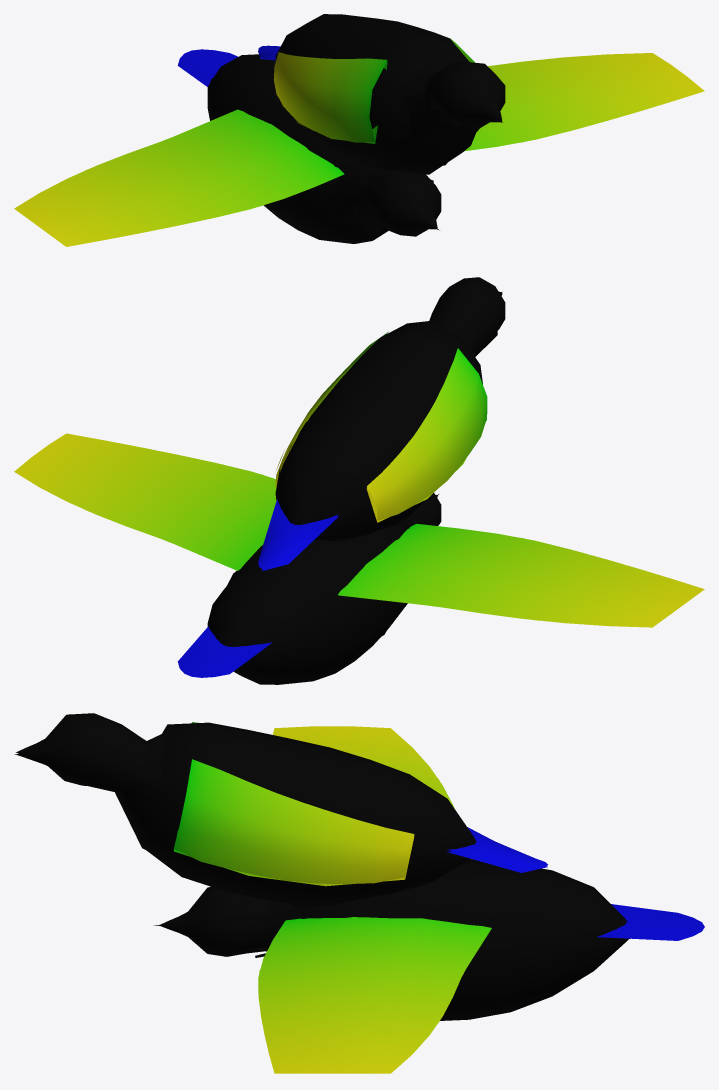
Rendered from chukar.glb.
3 views of the same model, one above another, from view 1: azimuth 30°, elevation 25°; view 2: azimuth 150°, elevation 25°; view 3: azimuth 270°, elevation 25° (orthographic). The views are drawn at different scales.
Parts seen in each view (by area): view 1: fly0, stand0, stand1, fly1, fly2; view 2: fly0, stand0, stand1, fly1; view 3: fly0, stand0, stand1, fly1.
Part boxes in pixels (x1,y1,x2,y2): fly0: (14,49,704,246); stand0: (258,14,505,217); stand1: (260,45,502,172); fly1: (16,60,536,245); fly2: (27,189,439,240); fly0: (14,433,704,684); stand0: (258,277,505,568); stand1: (262,293,502,570); fly1: (88,474,701,667); fly0: (159,726,704,1073); stand0: (16,713,547,957); stand1: (15,731,547,897); fly1: (159,779,627,1073).
Bounding box in the file's own units: 0.5 × 0.2015 × 0.4224.
